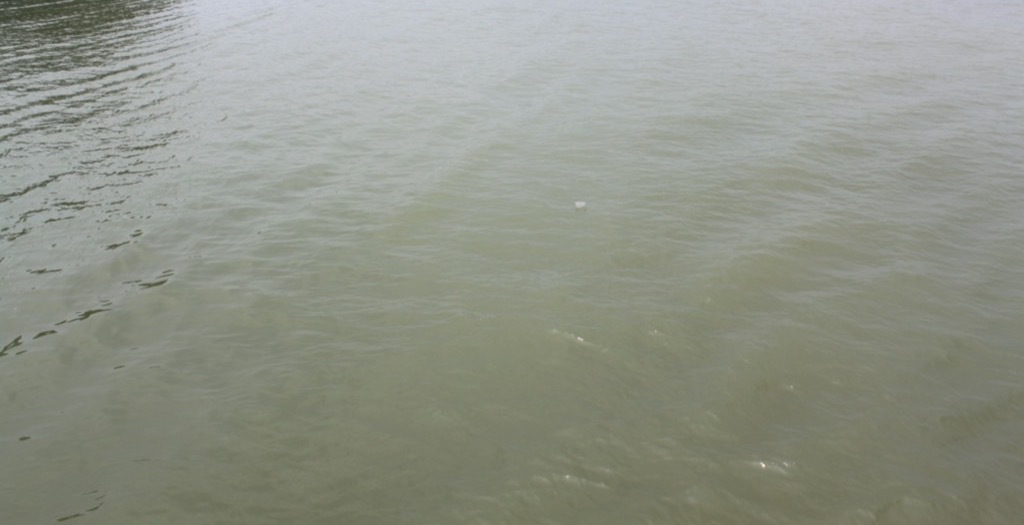plastic: (566, 185, 594, 219)
structure: (1, 1, 207, 374)
